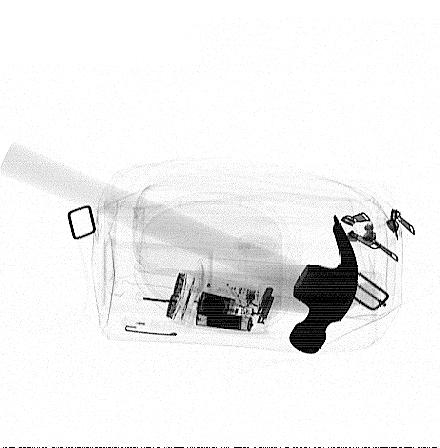Hammer: (1, 141, 359, 355)
